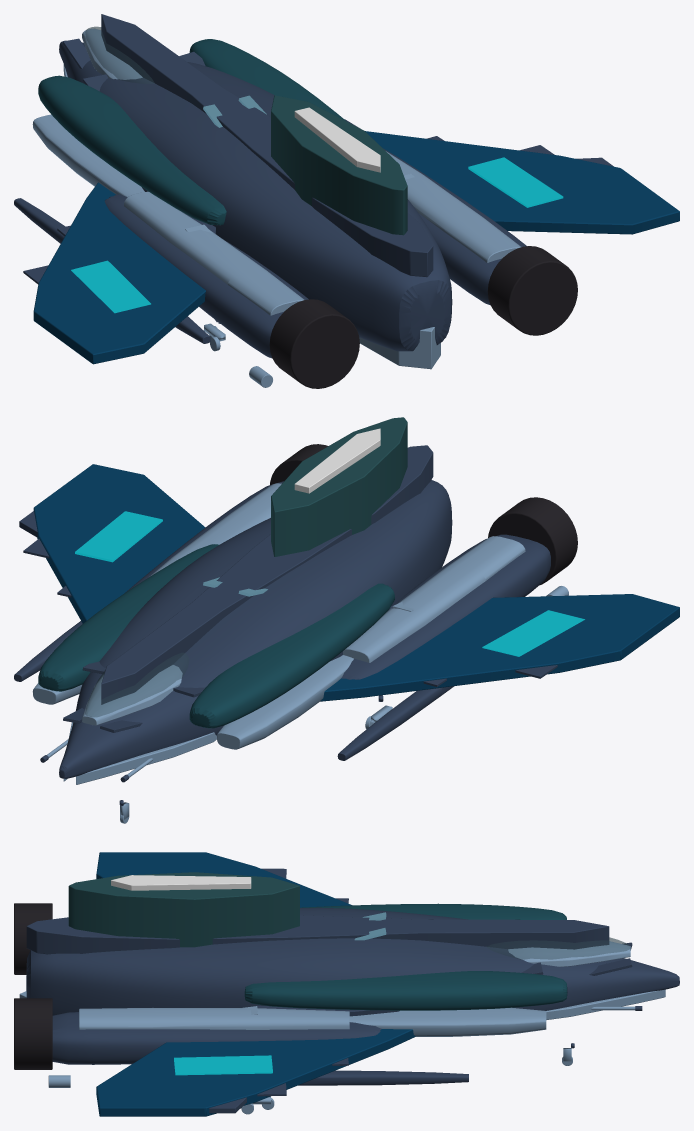
Rendered from spaceship.glb.
3 views of the same model, one above another, from view 1: azimuth 30°, elevation 25°; view 2: azimuth 150°, elevation 25°; view 3: azimuth 270°, elevation 25° (orthographic). The views are drawn at different scales.
Parts seen in each view (by area): view 1: Wing_R, MainHull, ShoulderPod_R, NozzleOuter_R, CenterSpine, EngineShroud_R, VerticalFin, EngineBody_R, PanelEngine_R.001, ShoulderUnder_R, FinCap, CanopyGlass (+3 smaller); view 2: Wing_R, MainHull, ShoulderPod_R, CenterSpine, VerticalFin, EngineShroud_R, EngineBody_R, ShoulderUnder_R, NozzleOuter_R, PanelEngine_R.001, Store_R, CanopyFrame (+3 smaller); view 3: MainHull, Wing_R, ShoulderPod_R, VerticalFin, CenterSpine, EngineBody_R, EngineShroud_R, ShoulderUnder_R, NozzleOuter_R, CanopyGlass, Store_R, FinCap (+5 smaller).
Boxes of the visible parts, x1,y1,x2,y2 form: Wing_R: (33, 131, 679, 364); MainHull: (59, 40, 452, 351); ShoulderPod_R: (38, 39, 346, 225); NozzleOuter_R: (269, 246, 577, 388); CenterSpine: (101, 14, 433, 277); EngineShroud_R: (124, 151, 521, 315); VerticalFin: (271, 95, 407, 235); EngineBody_R: (104, 148, 526, 358); PanelEngine_R.001: (71, 157, 563, 313); ShoulderUnder_R: (32, 114, 144, 197); FinCap: (294, 107, 380, 172); CanopyGlass: (85, 26, 154, 83); Wing_R: (33, 464, 679, 701); MainHull: (59, 480, 452, 778); ShoulderPod_R: (38, 544, 394, 728); CenterSpine: (101, 445, 433, 704); VerticalFin: (271, 417, 407, 556); EngineShroud_R: (149, 483, 525, 662); EngineBody_R: (125, 481, 550, 679); ShoulderUnder_R: (32, 655, 353, 749); NozzleOuter_R: (270, 444, 577, 584); PanelEngine_R.001: (75, 511, 584, 656); Store_R: (14, 621, 454, 760); CanopyFrame: (82, 665, 182, 725); MainHull: (26, 907, 679, 1015); Wing_R: (96, 852, 415, 1116); ShoulderPod_R: (244, 903, 567, 1010); VerticalFin: (68, 872, 299, 947); CenterSpine: (26, 915, 609, 954); EngineBody_R: (52, 1012, 381, 1064); EngineShroud_R: (79, 1008, 349, 1029); ShoulderUnder_R: (349, 1007, 546, 1036); NozzleOuter_R: (14, 903, 52, 1069); CanopyGlass: (487, 937, 629, 959); Store_R: (298, 1070, 468, 1085); FinCap: (111, 875, 251, 890).
Bounding box in the file's own units: 17.23 × 6.12 × 18.95.
